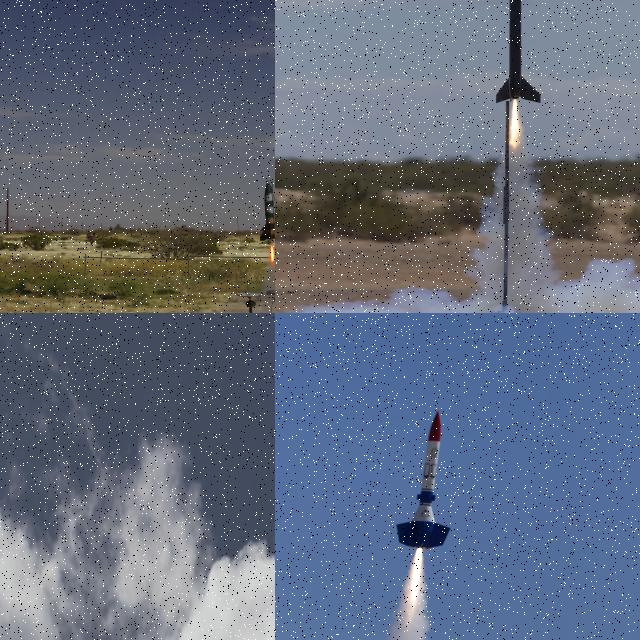Rocket: (395, 410, 453, 551), (495, 0, 543, 103), (259, 179, 275, 242), (155, 623, 158, 631)
